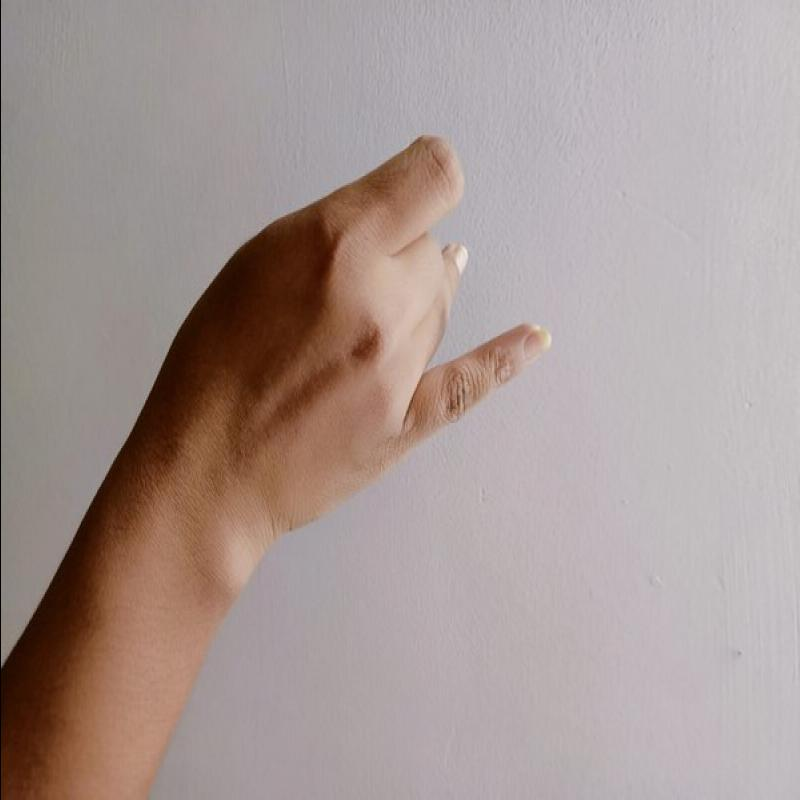Katakam: (158, 116, 605, 569)
